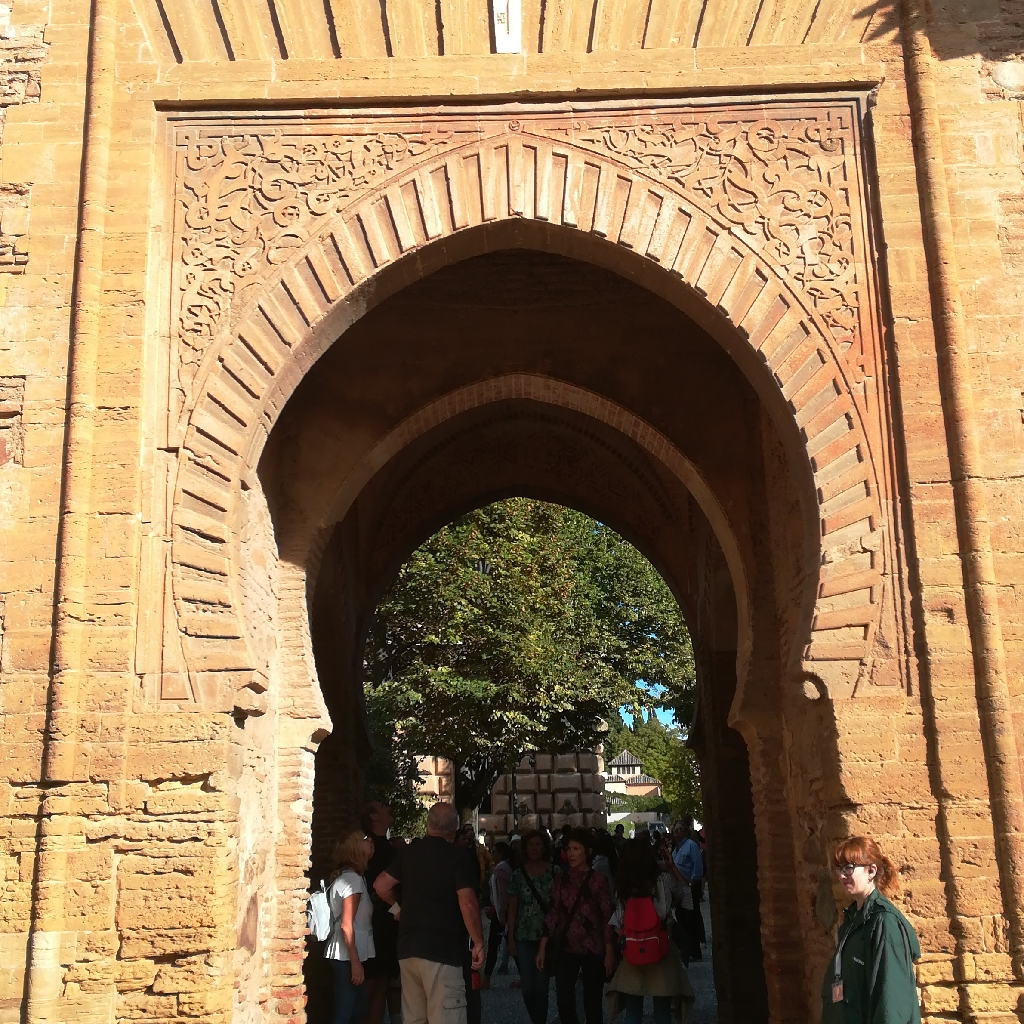arco-herradura: (195, 192, 865, 736)
dintel-adovelado: (136, 1, 883, 73)
